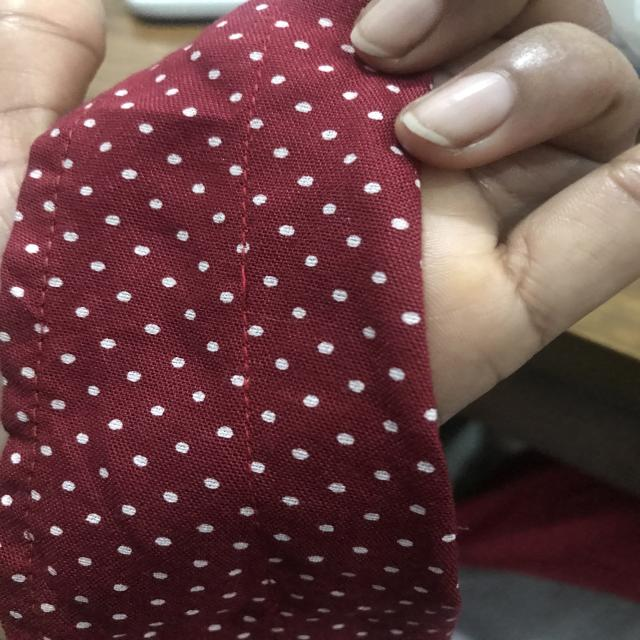skip: (234, 259, 261, 308)
